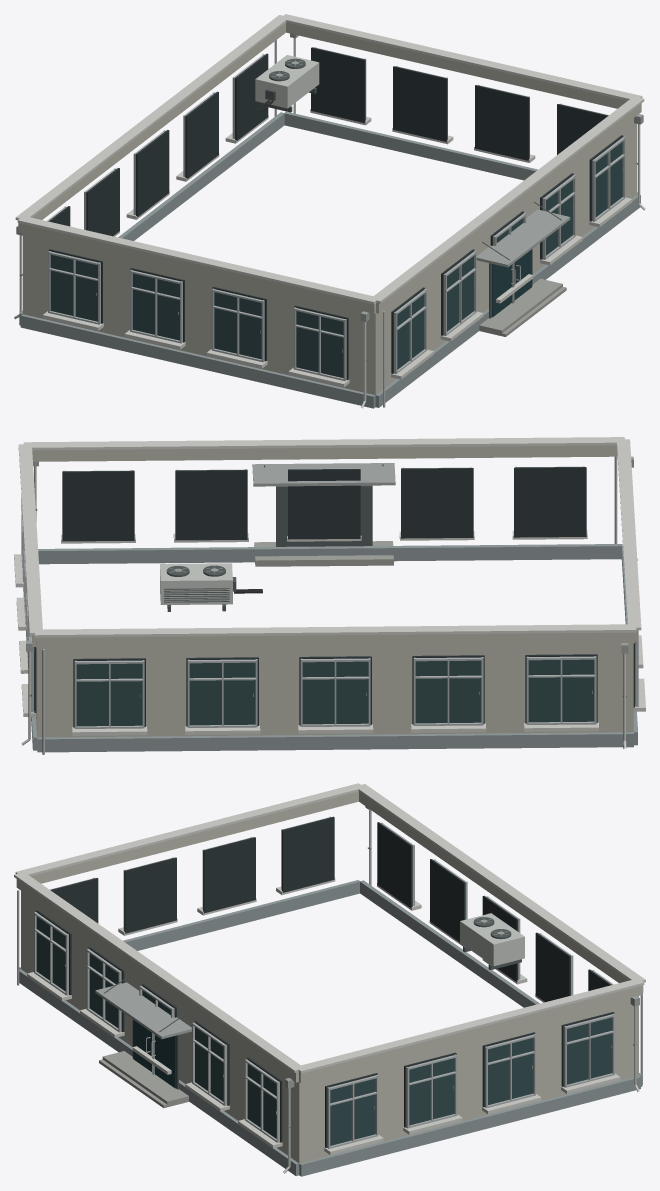
Rendered from osm_way_223859852.glb.
3 views of the same model, one above another, from view 1: azimuth 30°, elevation 25°; view 2: azimuth 150°, elevation 25°; view 3: azimuth 270°, elevation 25° (orthographic). The views are drawn at different scales.
Visible parts, largest first — view 1: Windows and facade details | 收发室, Architecture | 收发室, Roof services | 收发室, EXTERIOR::osm_way_223859852::inferred entry doors canopy and, EXTERIOR::osm_way_223859852::rainwater and roof service deta; view 2: Windows and facade details | 收发室, Architecture | 收发室, Roof services | 收发室, EXTERIOR::osm_way_223859852::inferred entry doors canopy and, EXTERIOR::osm_way_223859852::rainwater and roof service deta; view 3: Windows and facade details | 收发室, Architecture | 收发室, Roof services | 收发室, EXTERIOR::osm_way_223859852::inferred entry doors canopy and, EXTERIOR::osm_way_223859852::rainwater and roof service deta.
Part boxes in pixels (<box>): Windows and facade details | 收发室: <box>43,40,632,407</box>; Architecture | 收发室: <box>18,22,641,408</box>; Roof services | 收发室: <box>15,14,644,304</box>; EXTERIOR::osm_way_223859852::inferred entry doors canopy and: <box>476,201,570,336</box>; EXTERIOR::osm_way_223859852::rainwater and roof service deta: <box>14,33,645,408</box>; Windows and facade details | 收发室: <box>14,456,645,754</box>; Architecture | 收发室: <box>23,445,638,752</box>; Roof services | 收发室: <box>18,437,641,637</box>; EXTERIOR::osm_way_223859852::inferred entry doors canopy and: <box>252,463,395,566</box>; EXTERIOR::osm_way_223859852::rainwater and roof service deta: <box>21,456,638,748</box>; Windows and facade details | 收发室: <box>17,816,642,1154</box>; Architecture | 收发室: <box>16,791,643,1176</box>; Roof services | 收发室: <box>14,783,645,1073</box>; EXTERIOR::osm_way_223859852::inferred entry doors canopy and: <box>95,974,191,1108</box>; EXTERIOR::osm_way_223859852::rainwater and roof service deta: <box>283,806,639,1173</box>.
Size of the model in its own units: 26.17 by 5.38 by 24.26.
